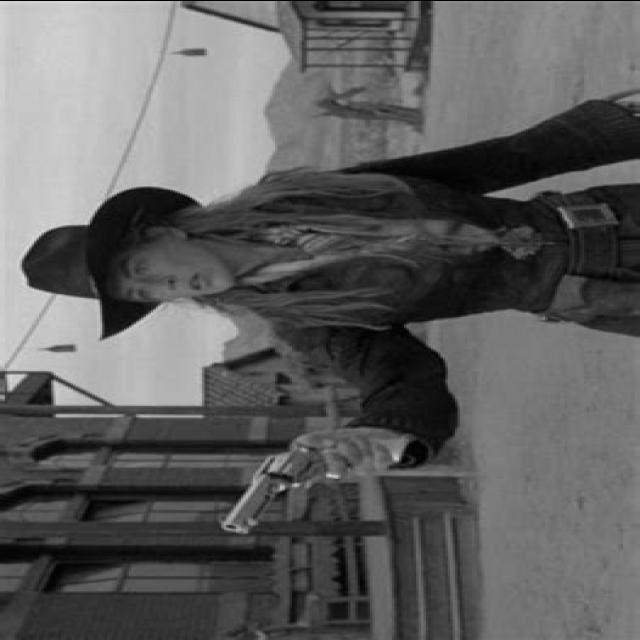weapons: (198, 419, 426, 535)
